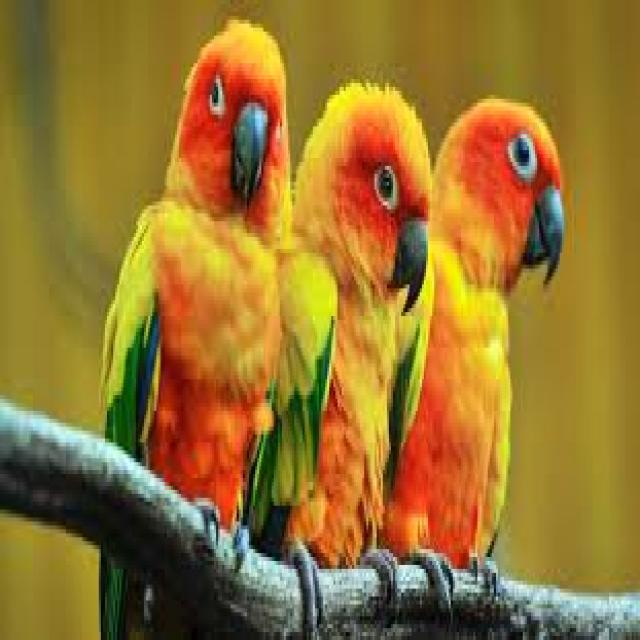parrot: (103, 20, 290, 521), (251, 83, 432, 561), (391, 99, 562, 561)
